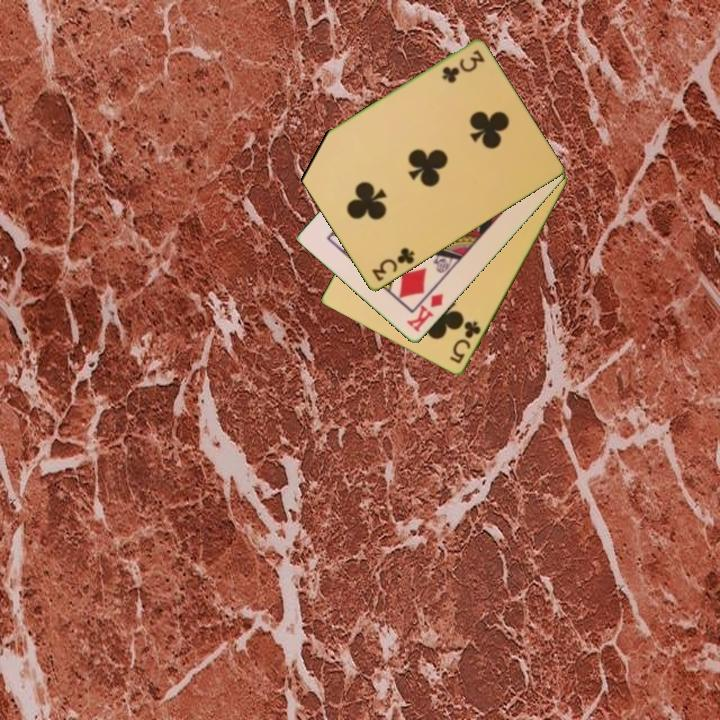3c: (368, 244, 418, 285), (438, 47, 487, 85)
5c: (446, 318, 484, 367)
Kd: (403, 290, 446, 336)
